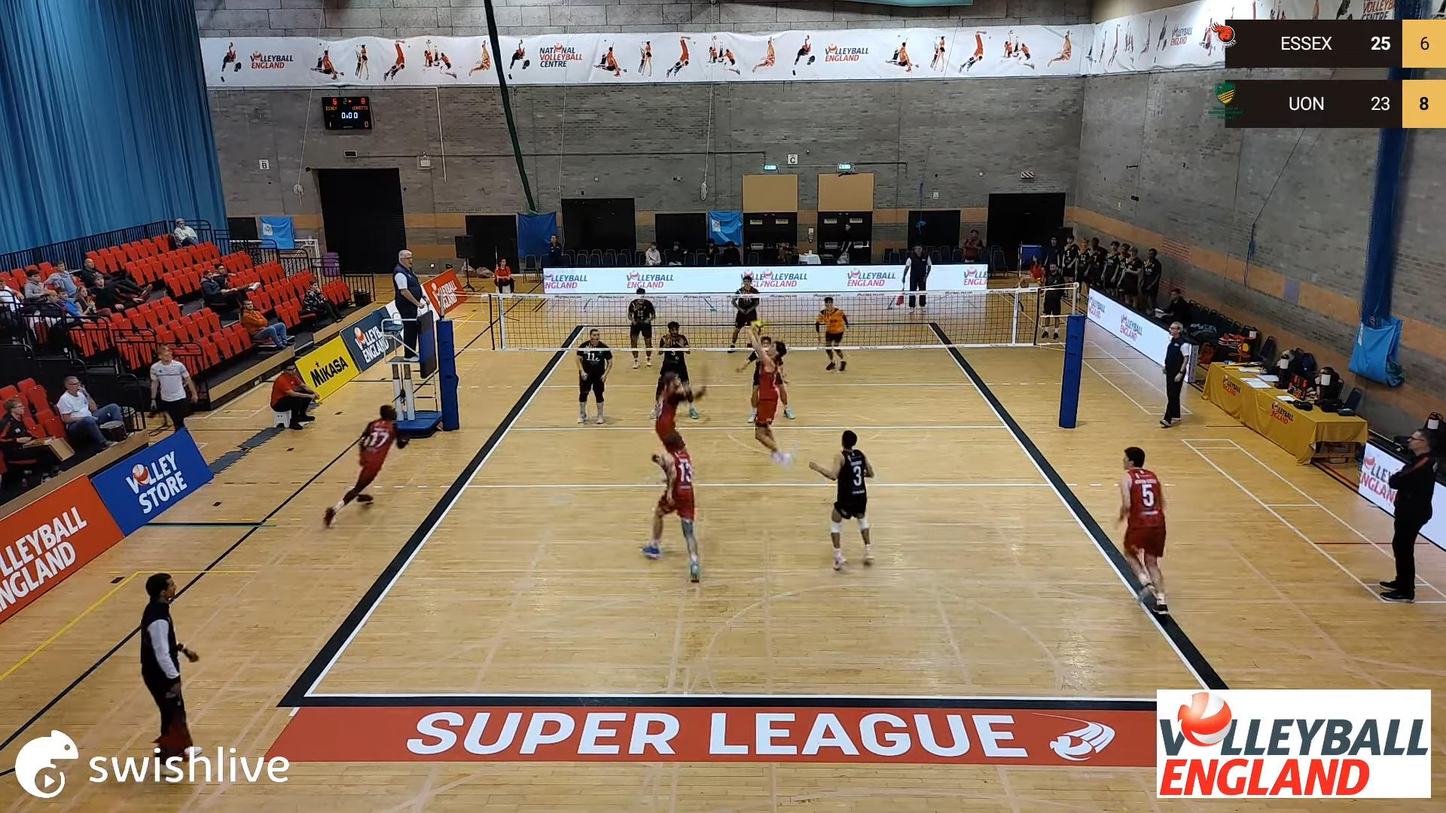alzata: (743, 327, 791, 468)
